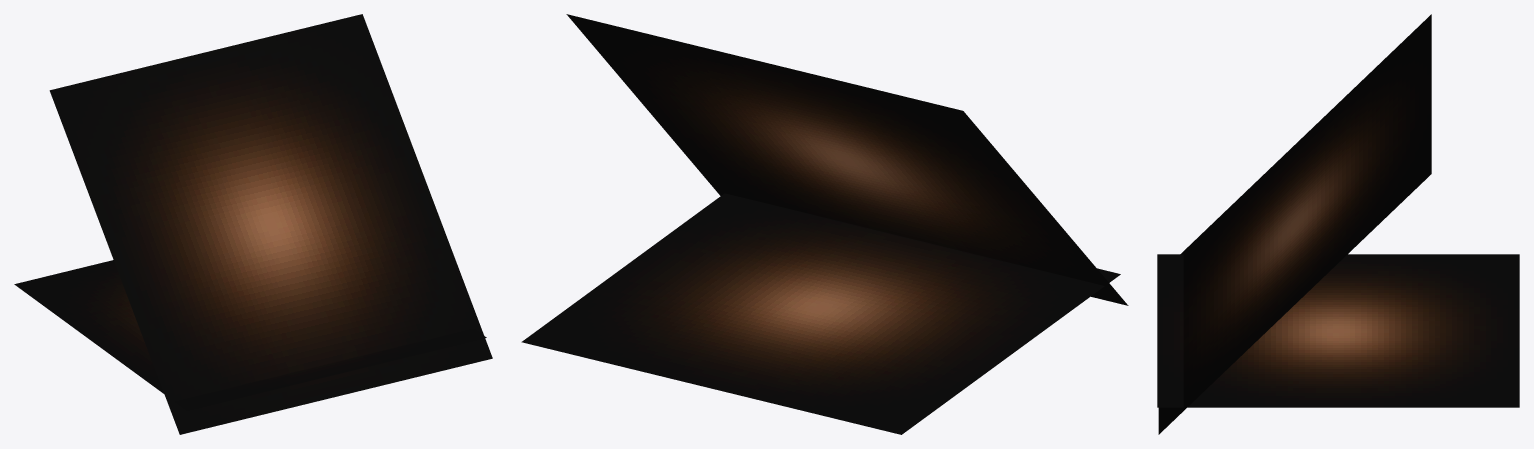
Rendered from Pointlight M - Incandescent Color.fbx.
3 renders of one model, left to right at view 1: azimuth 30°, elevation 25°; view 2: azimuth 150°, elevation 25°; view 3: azimuth 270°, elevation 25°, orthographic. The views are drawn at different scales.
Parts seen in each view (by area): view 1: pointlight_M_Incandescent_color; view 2: pointlight_M_Incandescent_color; view 3: pointlight_M_Incandescent_color.
Part boxes in pixels (x1,y1,x2,y2): pointlight_M_Incandescent_color: [14, 14, 492, 434]; pointlight_M_Incandescent_color: [521, 14, 1128, 434]; pointlight_M_Incandescent_color: [1157, 14, 1519, 434].
Size of the model in its own units: 7.31 by 5.56 by 7.
